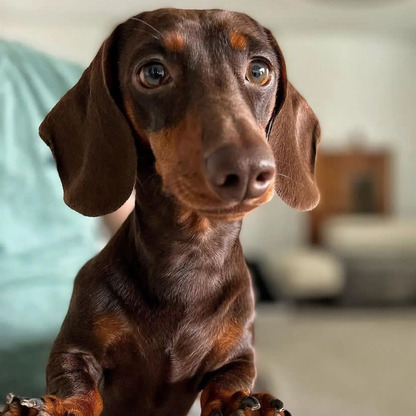dachshund: (33, 7, 336, 398)
